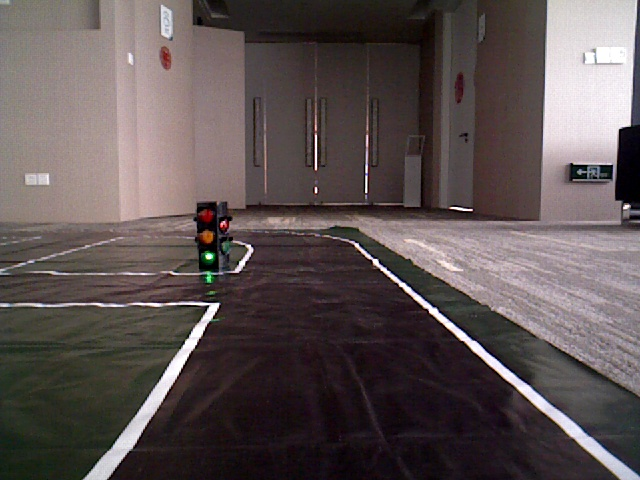green: (196, 202, 219, 265)
